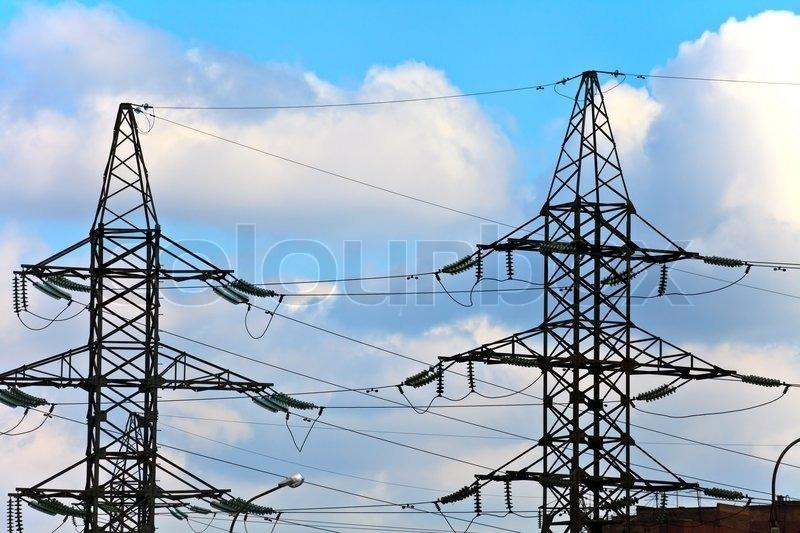power_tower: (408, 62, 771, 528), (15, 98, 264, 528)
